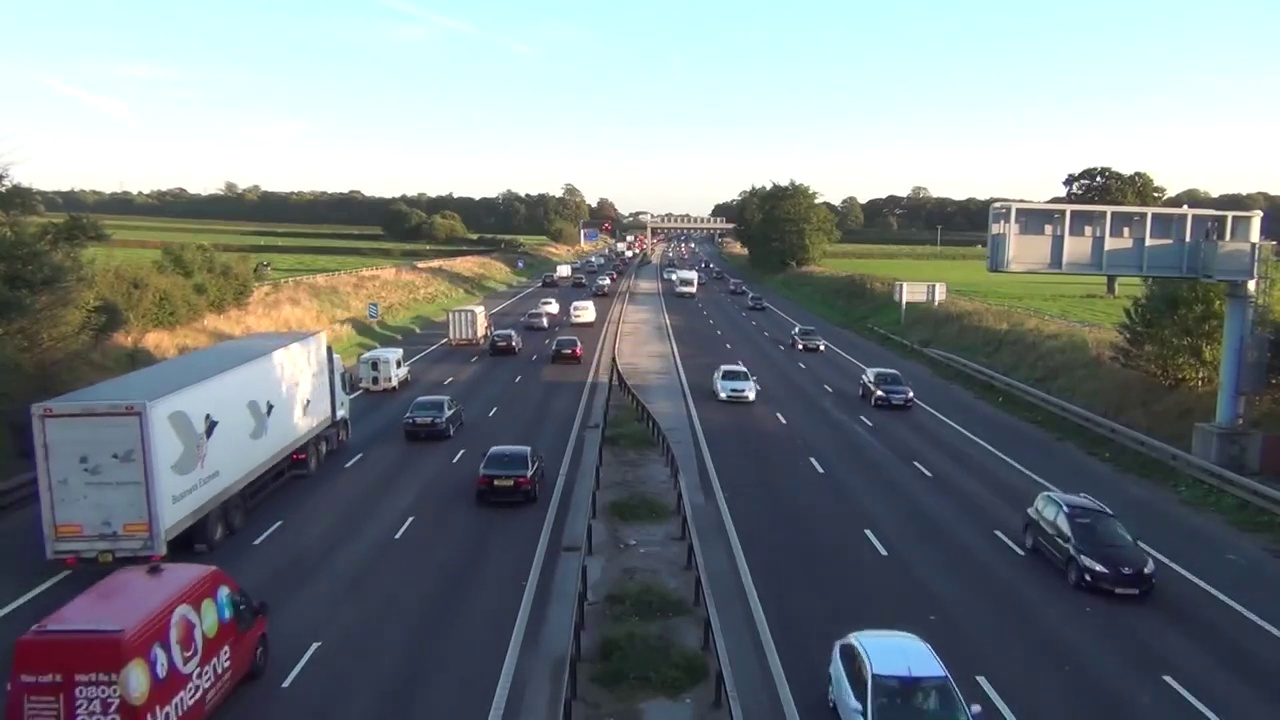bus: (1021, 491, 1158, 599), (826, 631, 981, 720), (474, 444, 541, 505), (405, 395, 466, 443), (859, 363, 912, 410), (713, 364, 755, 404), (791, 326, 825, 356), (552, 337, 582, 364), (568, 300, 597, 327), (490, 330, 520, 355), (521, 309, 549, 331), (540, 296, 561, 314)
car: (30, 330, 351, 556), (449, 303, 490, 345)
lorry: (360, 346, 411, 390)
minibus: (4, 564, 270, 720)
